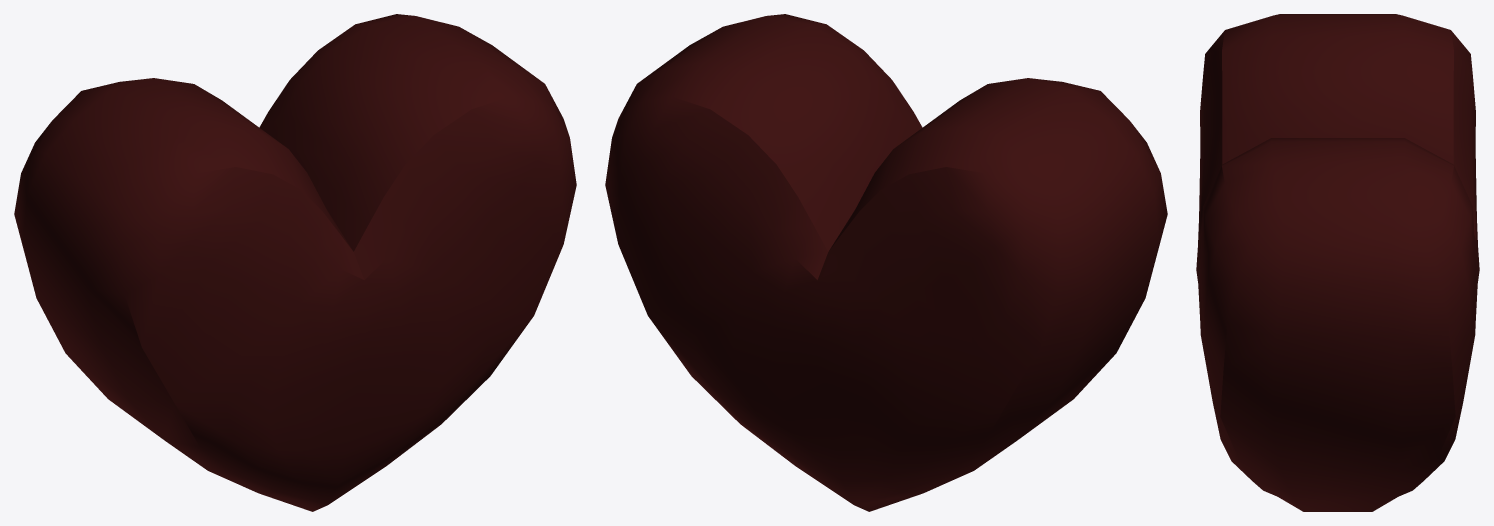
Rendered from heart.obj.
The picture shows the model from 3 angles, left to right: view 1: azimuth 30°, elevation 25°; view 2: azimuth 150°, elevation 25°; view 3: azimuth 270°, elevation 25°; orthographic projection.
Parts seen in each view (by area): view 1: Heart_Cube.005; view 2: Heart_Cube.005; view 3: Heart_Cube.005.
Boxes of the visible parts, <box> form: Heart_Cube.005: <box>14,14,576,511</box>; Heart_Cube.005: <box>605,14,1167,511</box>; Heart_Cube.005: <box>1196,14,1479,511</box>.
Bounding box in the file's own units: 1.48 × 1.24 × 0.7542.
